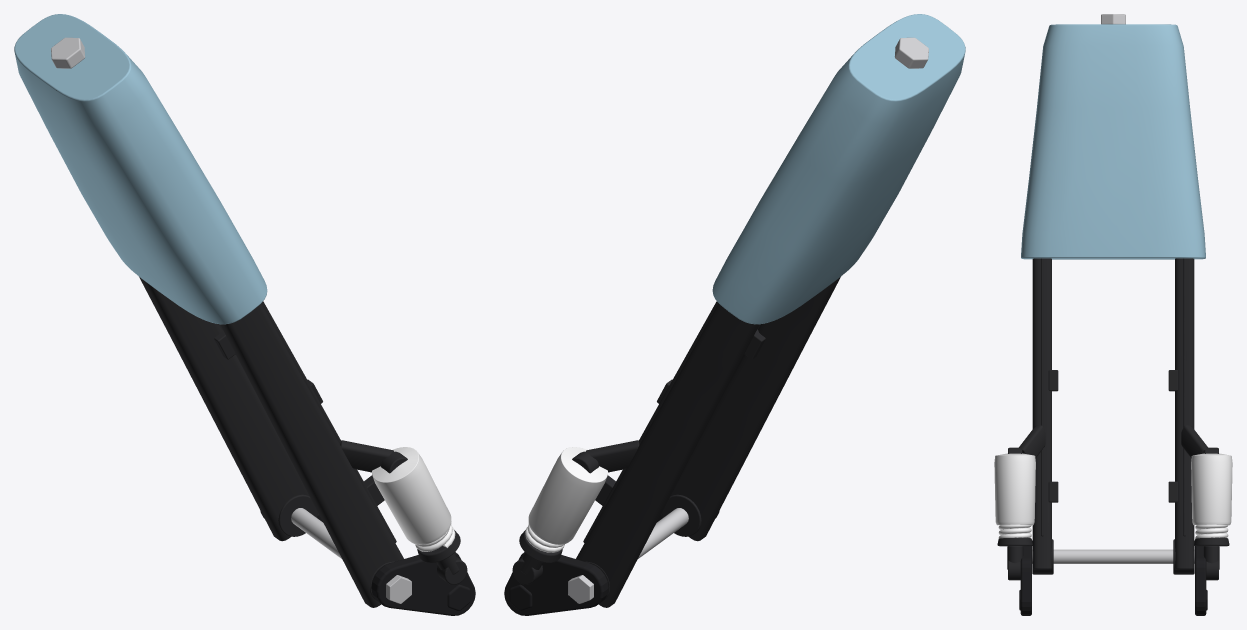
The model's file is bike_step_through__forks.glb.
The picture shows the model from 3 angles, left to right: view 1: azimuth 30°, elevation 25°; view 2: azimuth 150°, elevation 25°; view 3: azimuth 270°, elevation 25°; orthographic projection. The views are drawn at different scales.
Parts seen in each view (by area): view 1: chassis__front_fork__top_cover, chassis__front_fork__legs, chassis__front_fork__shock_covers, chassis__front_fork__links, chassis__front_fork__left_shock__body, chassis__front_fork__pivot_bolts, chassis__steering__top_bridge; view 2: chassis__front_fork__top_cover, chassis__front_fork__legs, chassis__front_fork__shock_covers, chassis__front_fork__links, chassis__front_fork__right_shock__body, chassis__front_fork__pivot_bolts, chassis__steering__top_bridge; view 3: chassis__front_fork__top_cover, chassis__front_fork__legs, chassis__front_fork__shock_covers, chassis__front_fork__pivot_bolts, chassis__front_fork__links, chassis__front_fork__left_shock__body, chassis__front_fork__right_shock__body, chassis__front_fork__right_shock__spring, chassis__front_fork__left_shock__spring.
Part boxes in pixels (x1,y1,x2,y2): chassis__front_fork__top_cover: (14,14,267,324); chassis__front_fork__legs: (139,277,403,607); chassis__front_fork__shock_covers: (372,447,451,544); chassis__front_fork__links: (260,511,475,615); chassis__front_fork__left_shock__body: (381,451,467,584); chassis__front_fork__pivot_bolts: (291,508,411,603); chassis__steering__top_bridge: (51,37,85,68); chassis__front_fork__top_cover: (712,14,965,324); chassis__front_fork__legs: (576,277,840,607); chassis__front_fork__shock_covers: (528,447,607,544); chassis__front_fork__links: (504,511,719,615); chassis__front_fork__right_shock__body: (512,451,598,584); chassis__front_fork__pivot_bolts: (568,508,688,603); chassis__steering__top_bridge: (894,37,928,68); chassis__front_fork__top_cover: (1021,24,1205,259); chassis__front_fork__legs: (1019,258,1207,574); chassis__front_fork__shock_covers: (994,453,1232,525); chassis__front_fork__pivot_bolts: (1032,549,1194,563); chassis__front_fork__links: (1019,546,1207,615); chassis__front_fork__left_shock__body: (997,447,1032,580); chassis__front_fork__right_shock__body: (1194,447,1229,580); chassis__front_fork__right_shock__spring: (1195,524,1228,538); chassis__front_fork__left_shock__spring: (998,524,1031,538).
Bounding box in the file's own units: 42.25 × 66.03 × 29.8.
